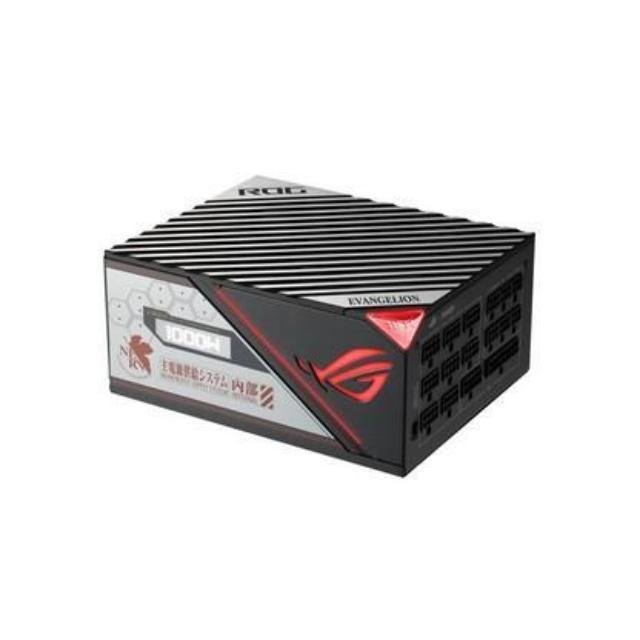PSU: (98, 172, 544, 484)
